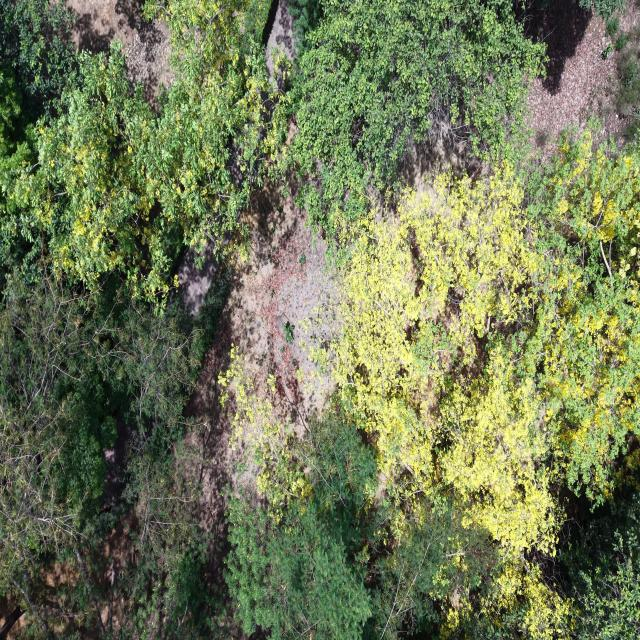DRY_AREA: (179, 183, 334, 580), (178, 186, 333, 580), (188, 186, 334, 582), (188, 187, 334, 581), (189, 186, 334, 579), (190, 186, 335, 579), (188, 189, 332, 582), (189, 187, 334, 538), (191, 188, 335, 537), (190, 187, 334, 529), (190, 189, 332, 525), (235, 198, 333, 433), (520, 0, 639, 159), (225, 194, 323, 361), (527, 0, 625, 156), (527, 0, 622, 149), (529, 3, 616, 148), (67, 0, 172, 105), (66, 0, 172, 104), (67, 0, 172, 104), (81, 511, 135, 637), (525, 0, 592, 94), (92, 510, 135, 635), (400, 139, 489, 193), (178, 243, 218, 316), (265, 0, 294, 81), (266, 0, 294, 74), (266, 0, 294, 66), (0, 593, 32, 639), (0, 594, 26, 639), (0, 598, 24, 639)
VEGETATION_TREE: (0, 0, 639, 639), (223, 132, 639, 638), (0, 3, 283, 637), (0, 0, 284, 302), (0, 264, 205, 634), (227, 399, 500, 638), (288, 0, 544, 235), (2, 44, 182, 298), (523, 133, 639, 504), (145, 0, 286, 254), (227, 416, 383, 639), (0, 0, 77, 287), (561, 487, 639, 639), (0, 0, 75, 122), (602, 11, 639, 138), (0, 69, 21, 158), (288, 0, 323, 52), (579, 0, 625, 19)
